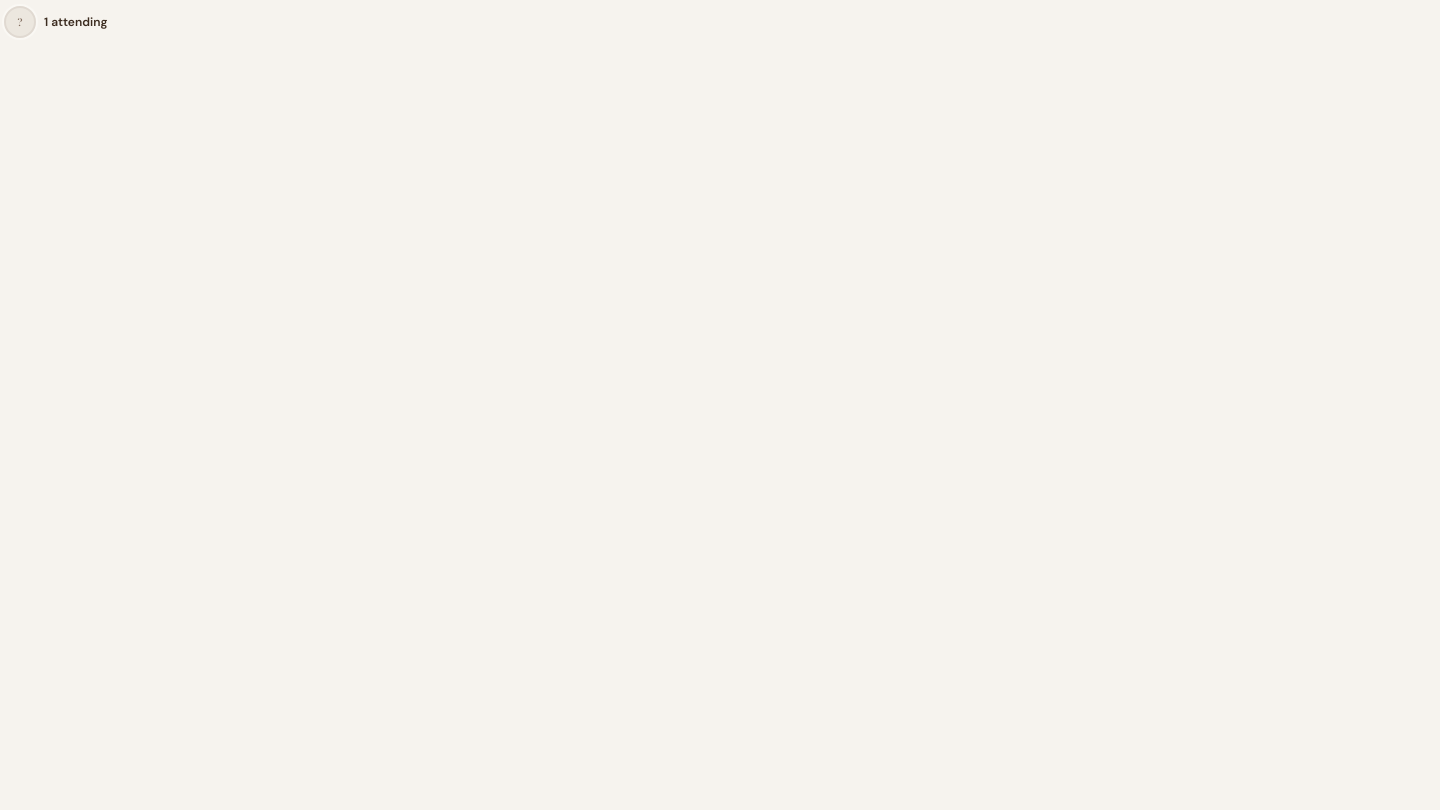
Test: AttendeeFacePile › renders a Reader fallback name for missing profiles
Click the button with aria-label "view 1 attending" at (60, 22), box left=0, top=0, right=119, bottom=44
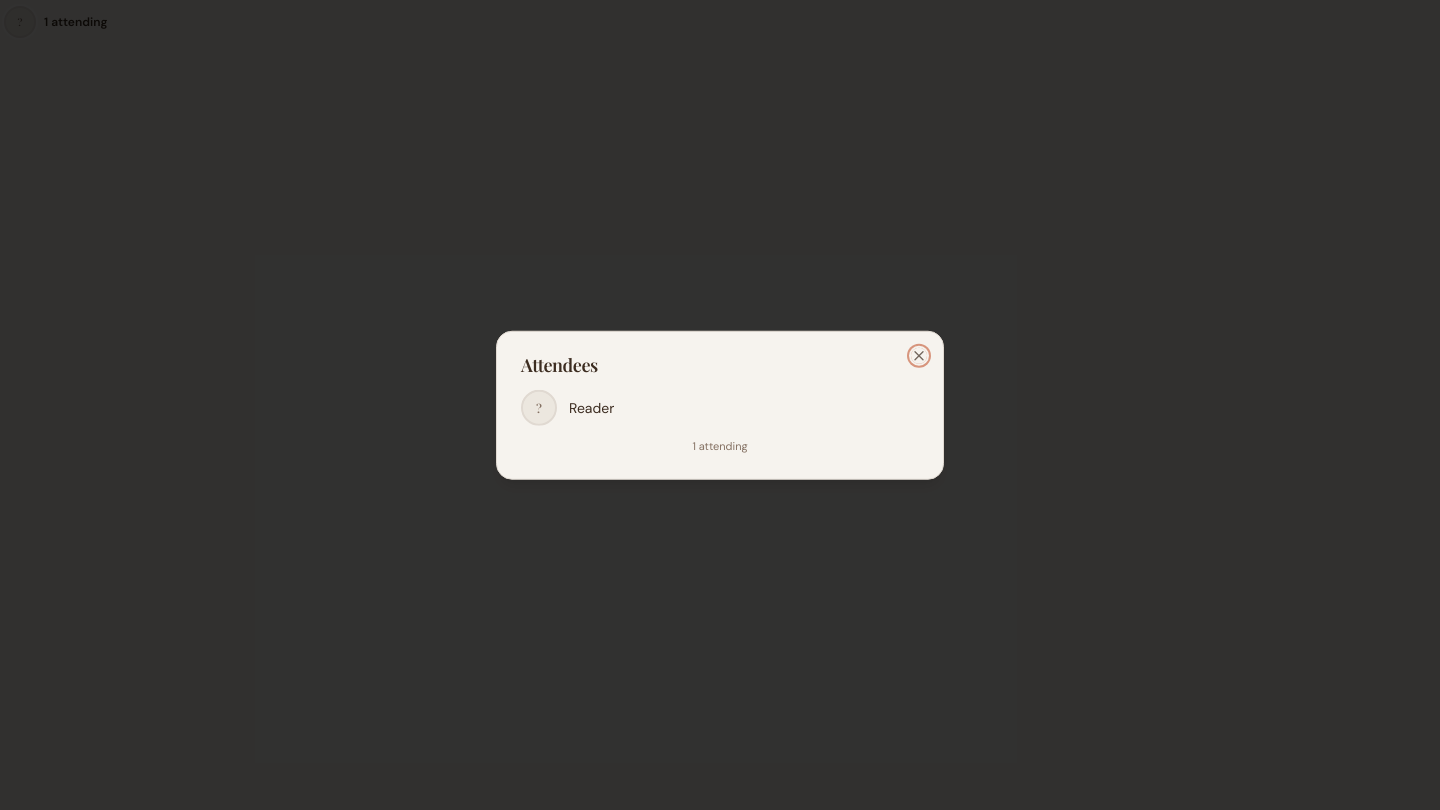
Expected: the dialog shows "Reader", left=569, top=399, right=614, bottom=417
